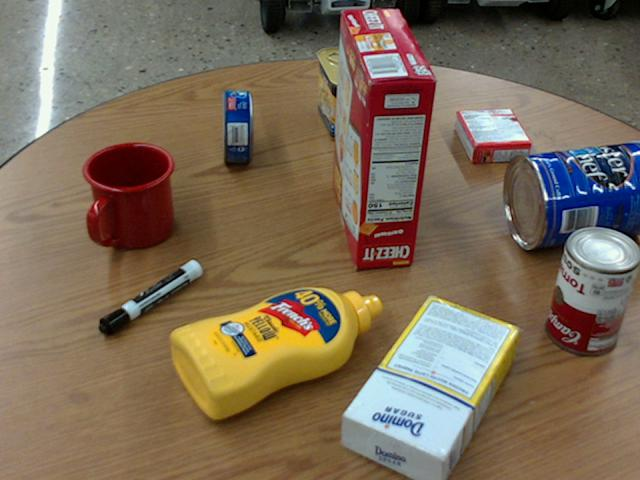cracker_box: (332, 8, 435, 267)
gelatin_box: (454, 108, 531, 163)
large_marker: (98, 259, 201, 334)
master_chef_can: (503, 139, 639, 248)
mug: (82, 142, 174, 249)
mustard_bottle: (169, 285, 381, 420)
potted_meat_can: (315, 47, 375, 141)
sugar_box: (340, 295, 519, 479)
tomato_soup_can: (546, 224, 639, 352)
tuna_fish_can: (222, 89, 252, 161)
